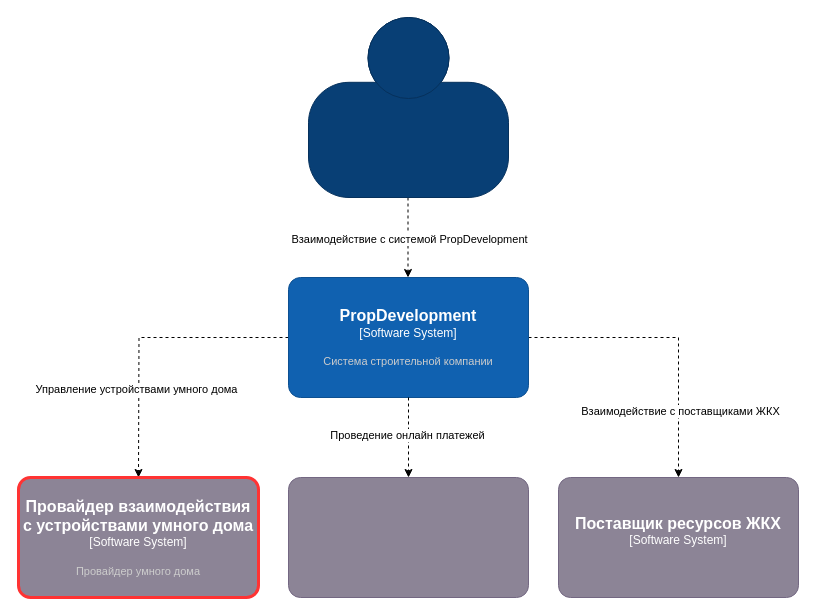
Image size: 816x616. Some labels were removed from this diagram. Here are the shapes that lost their labels. From the top down, the box of each, then its label:
(308, 16, 508, 198): Собственник [Person] Клиент
(288, 476, 528, 598): Платёжная система [Software System] Провайдер онлайн-платежей
